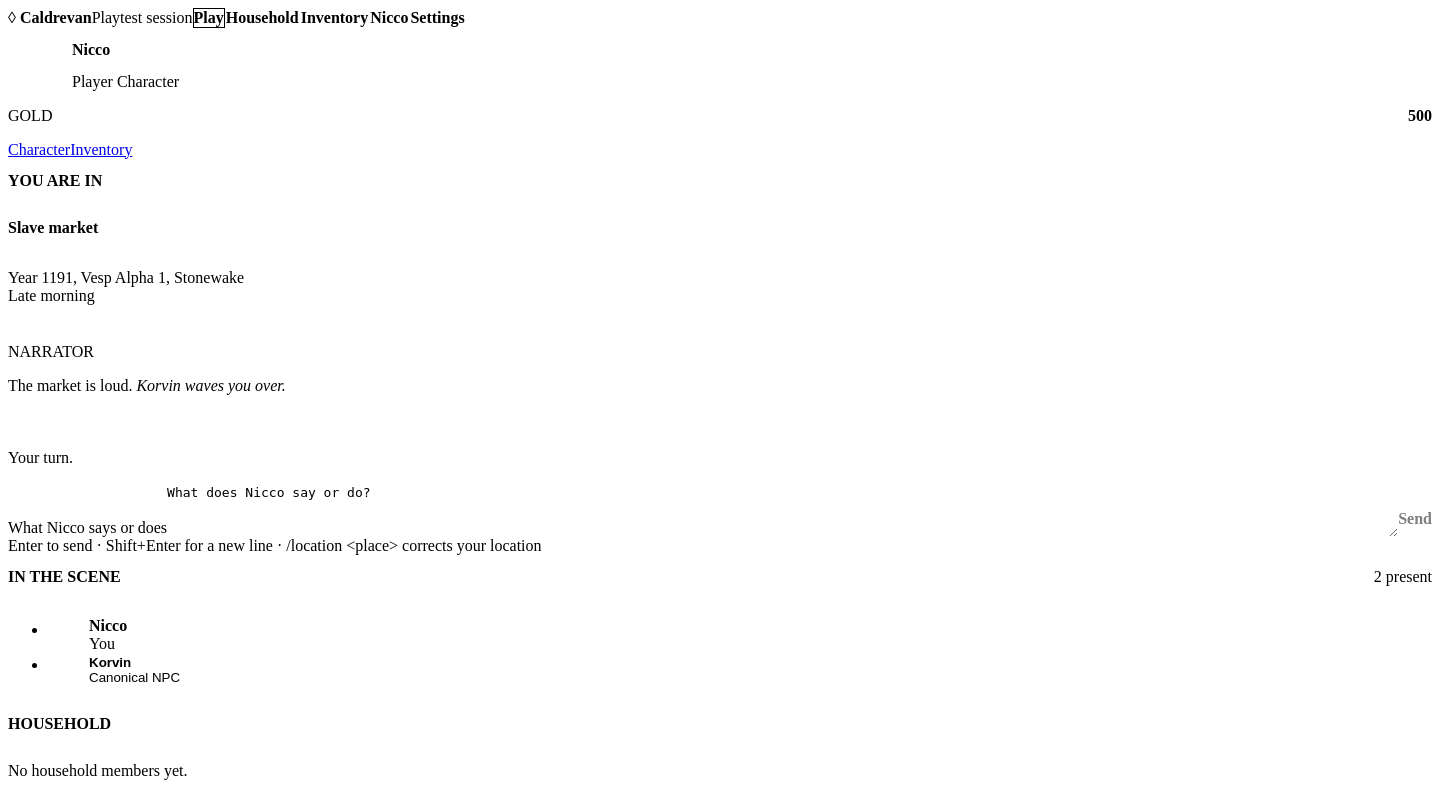
Test: turn progress › a cancelled turn (the server's own refusal) behaves like any other refusal: nothing committed, text kept
In the text box labelled "What Nicco says or does": (783, 511) [167,485,1398,537], type "Wait."
Then press Enter
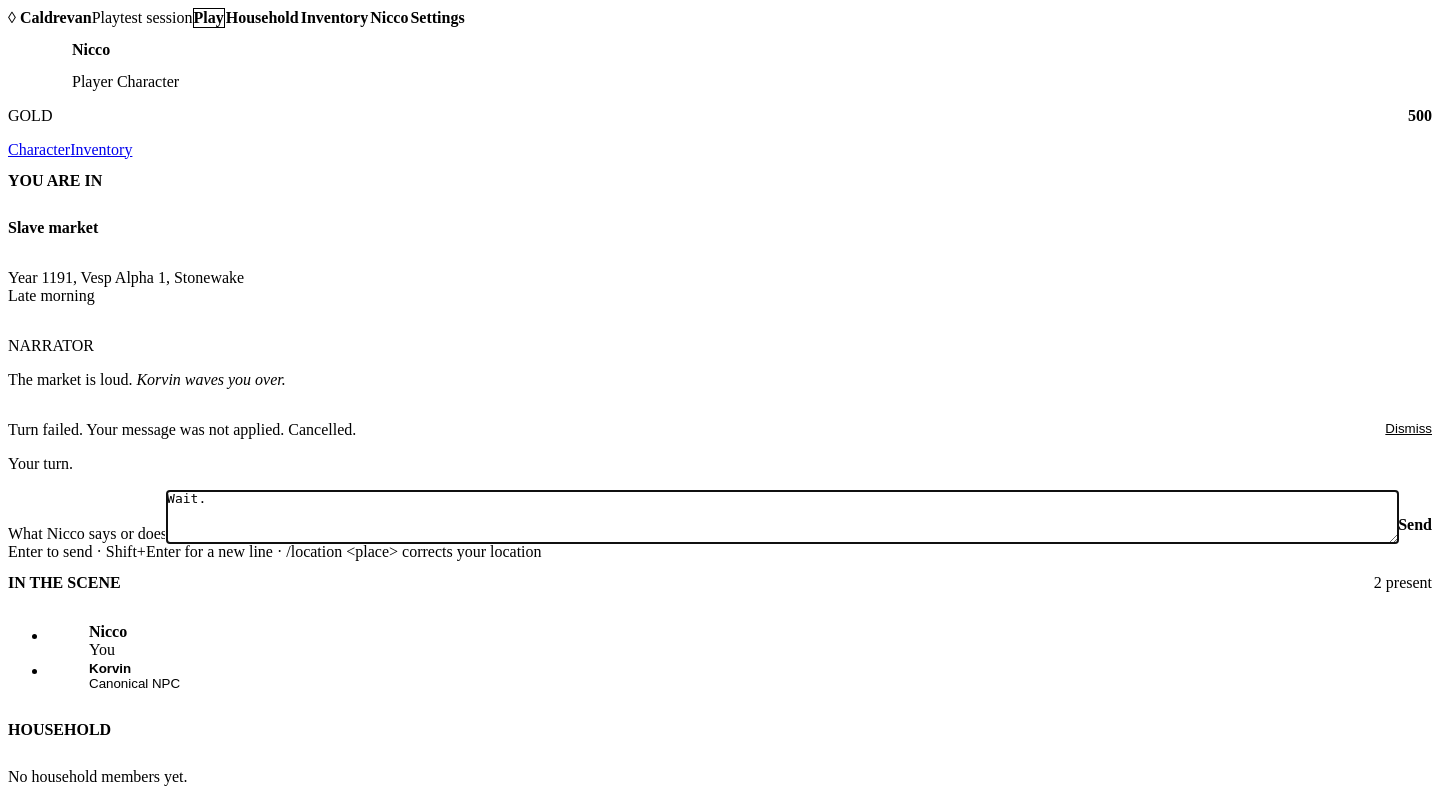
expect the text "Turn failed. Your message was not applied. Cancelled." is shown: met, box [8,421,356,439]
